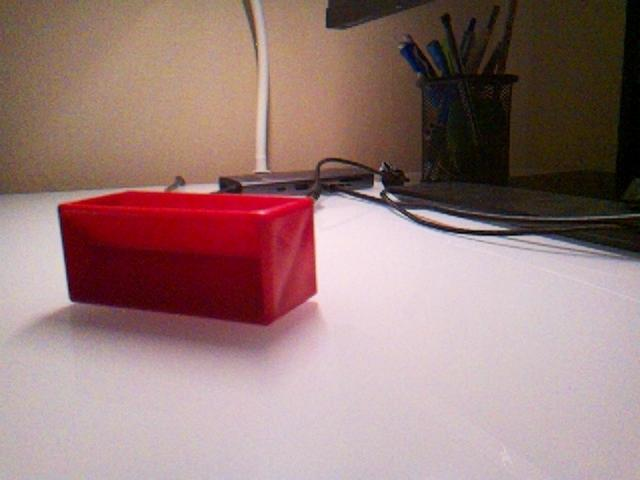red: (57, 188, 319, 327)
